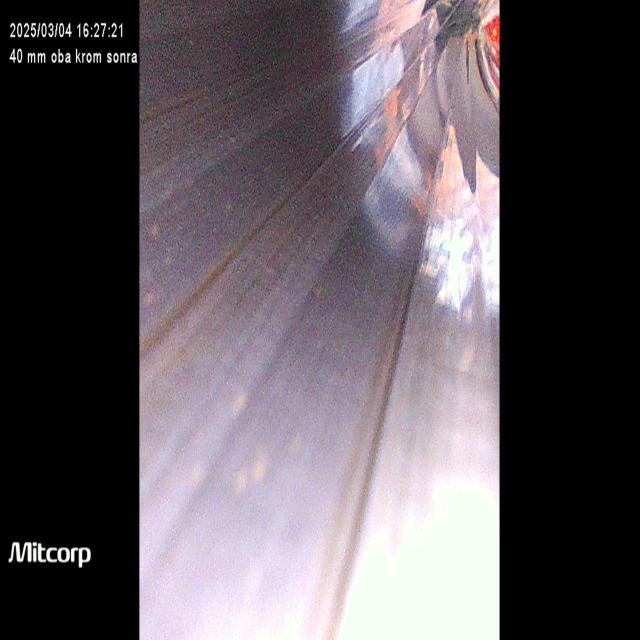hata_4.2: (208, 389, 298, 519), (147, 214, 195, 408)
